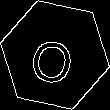O_N: (30, 25, 80, 85)
